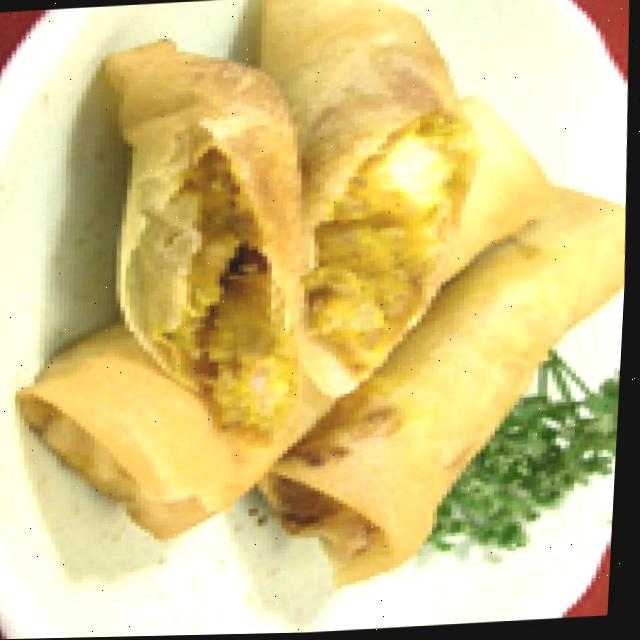鸡蛋料理: (7, 0, 640, 605)
